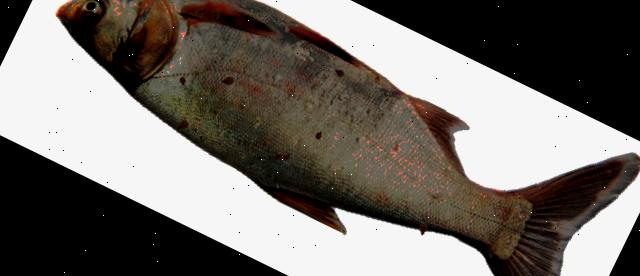Parasitic Disease: (57, 0, 640, 276), (57, 0, 640, 276)
